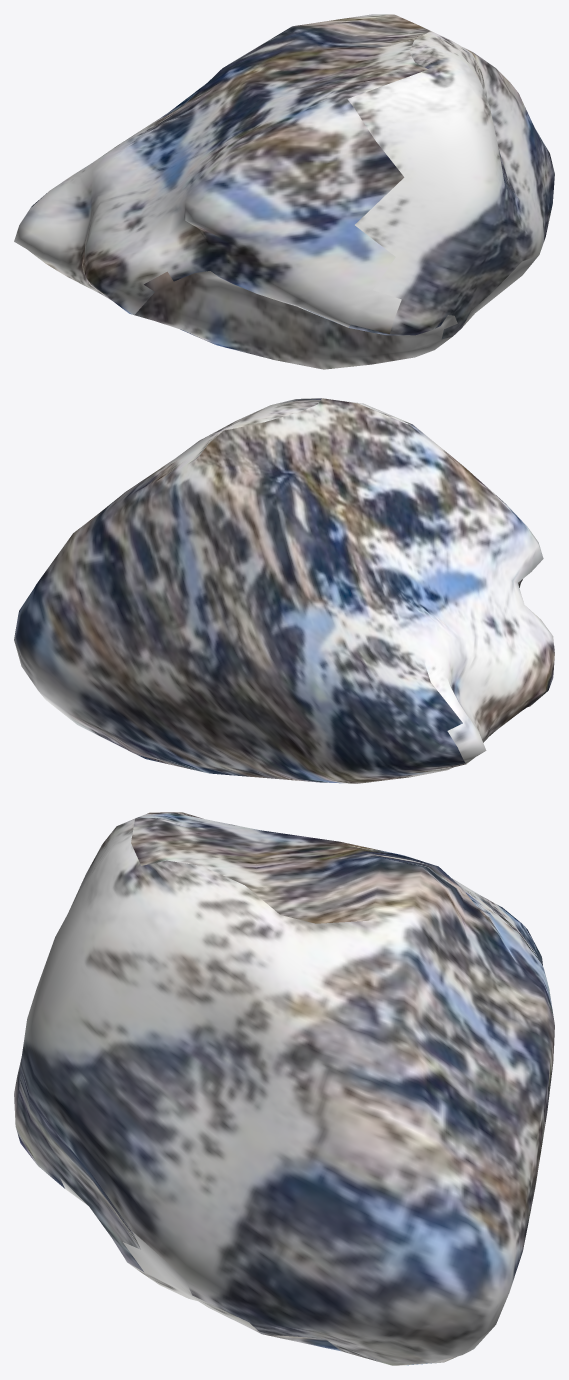
File: rocap.obj
3 renders of one model, top to bottom at view 1: azimuth 30°, elevation 25°; view 2: azimuth 150°, elevation 25°; view 3: azimuth 270°, elevation 25°, orthographic. The views are drawn at different scales.
Visible parts, largest first — view 1: default; view 2: default; view 3: default.
Boxes of the visible parts, <box> form: default: <box>14,14,554,369</box>; default: <box>14,398,554,783</box>; default: <box>14,812,554,1365</box>.
Size of the model in its own units: 43.77 by 25.7 by 28.76.
1 material, 1 textured.
